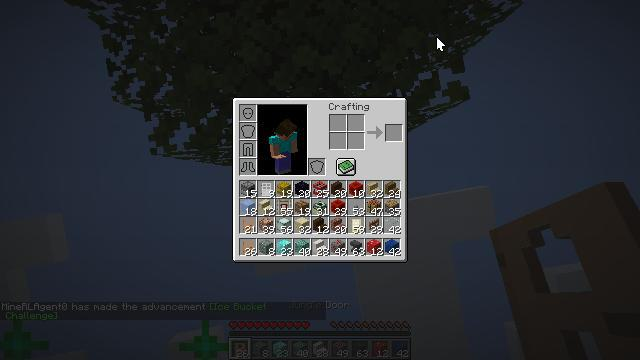cursor: (436, 36, 446, 52)
